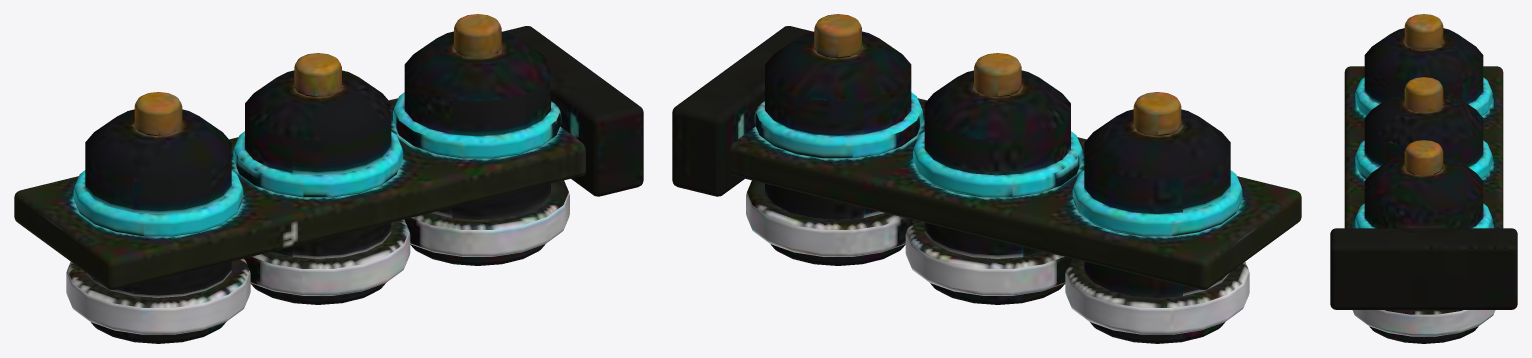
The model's file is laser_cell_pack.glb.
3 renders of one model, left to right at view 1: azimuth 30°, elevation 25°; view 2: azimuth 150°, elevation 25°; view 3: azimuth 270°, elevation 25°, orthographic. The views are drawn at different scales.
Visible parts, largest first — view 1: laser_cell_pack; view 2: laser_cell_pack; view 3: laser_cell_pack.
Boxes of the visible parts, left/top/right/bottom form: laser_cell_pack: left=14, top=14, right=643, bottom=343; laser_cell_pack: left=672, top=14, right=1301, bottom=343; laser_cell_pack: left=1330, top=14, right=1517, bottom=343.
Bounding box in the file's own units: 0.205 × 0.08 × 0.078.
Materials: 1 (1 with a texture image).
